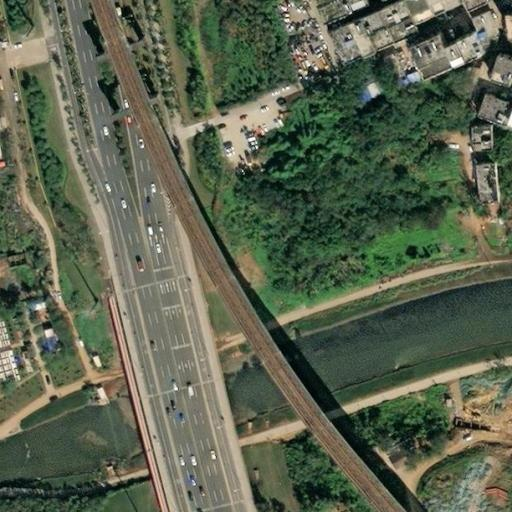building: (384, 0, 425, 49), (422, 41, 464, 87), (333, 25, 368, 69), (355, 22, 385, 66), (368, 13, 398, 54), (456, 42, 493, 74), (378, 441, 413, 474), (349, 72, 384, 105), (317, 0, 356, 27), (411, 0, 441, 30), (476, 97, 507, 126), (432, 0, 471, 23), (470, 12, 497, 43), (395, 66, 421, 89), (472, 127, 494, 154), (10, 342, 29, 373), (494, 58, 512, 90), (473, 166, 493, 194), (498, 7, 512, 43), (36, 326, 52, 350), (0, 349, 10, 383), (350, 0, 369, 15), (81, 354, 94, 369), (488, 191, 499, 203), (89, 387, 98, 400)
